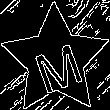M_N: (26, 28, 85, 92)
